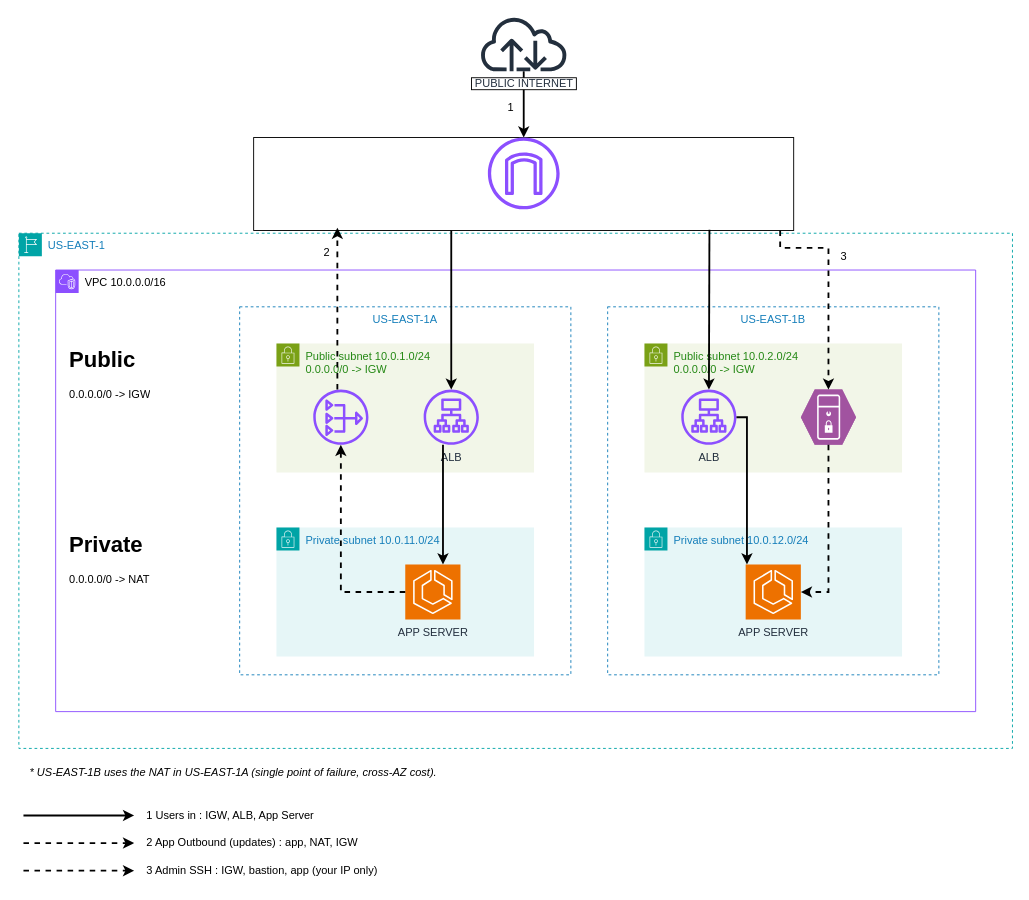
Some shapes in this 1029 by 900 pixel diagram are drawn without their labels. Here are the shapes that lost their labels. From the top down, the centre of each, then its label:
At point 523,173: "INTERNET GATEWAY".
At point 340,416: "NAT GW".
At point 828,417: "BASTION HOST".
